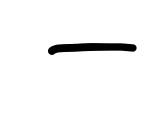minus: (49, 41, 137, 55)
